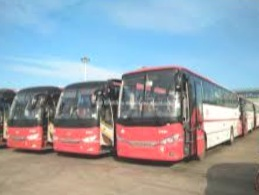bus: (112, 64, 259, 165), (52, 80, 110, 157), (5, 85, 62, 153)
